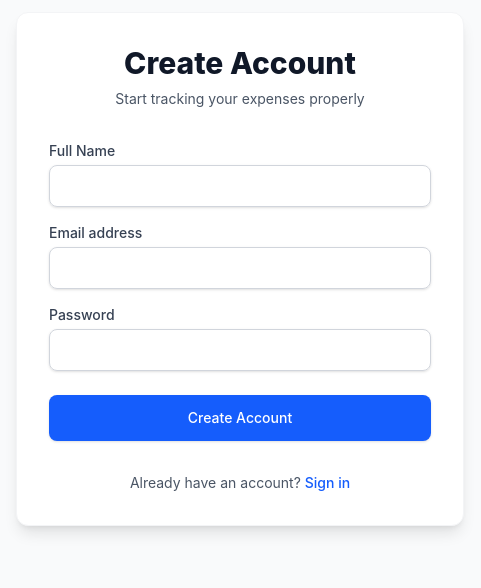
it: Register Component › shows error for password too short
In the password field labelled "Password": point(240, 350) [49,329,431,371], type "12345"
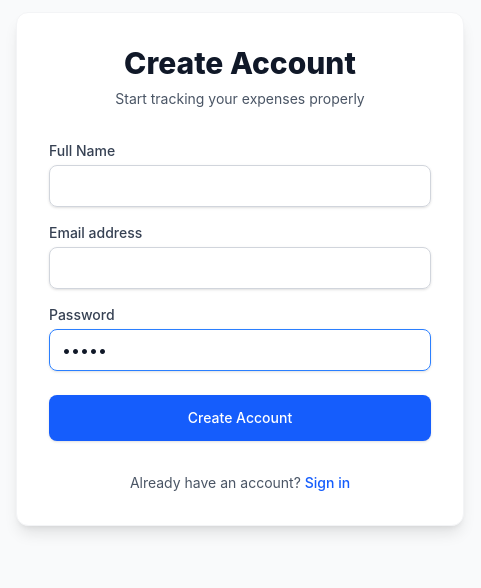
Click the button "Create Account": point(240, 418) [49,395,431,441]
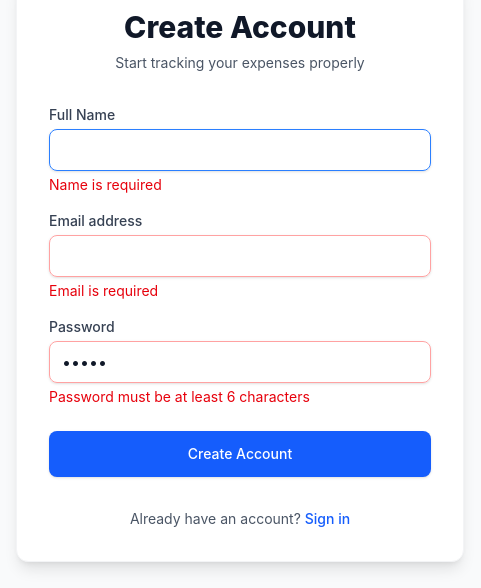
Expected: the text "Password must be at least 6 characters" is shown, [49,388,310,405]
